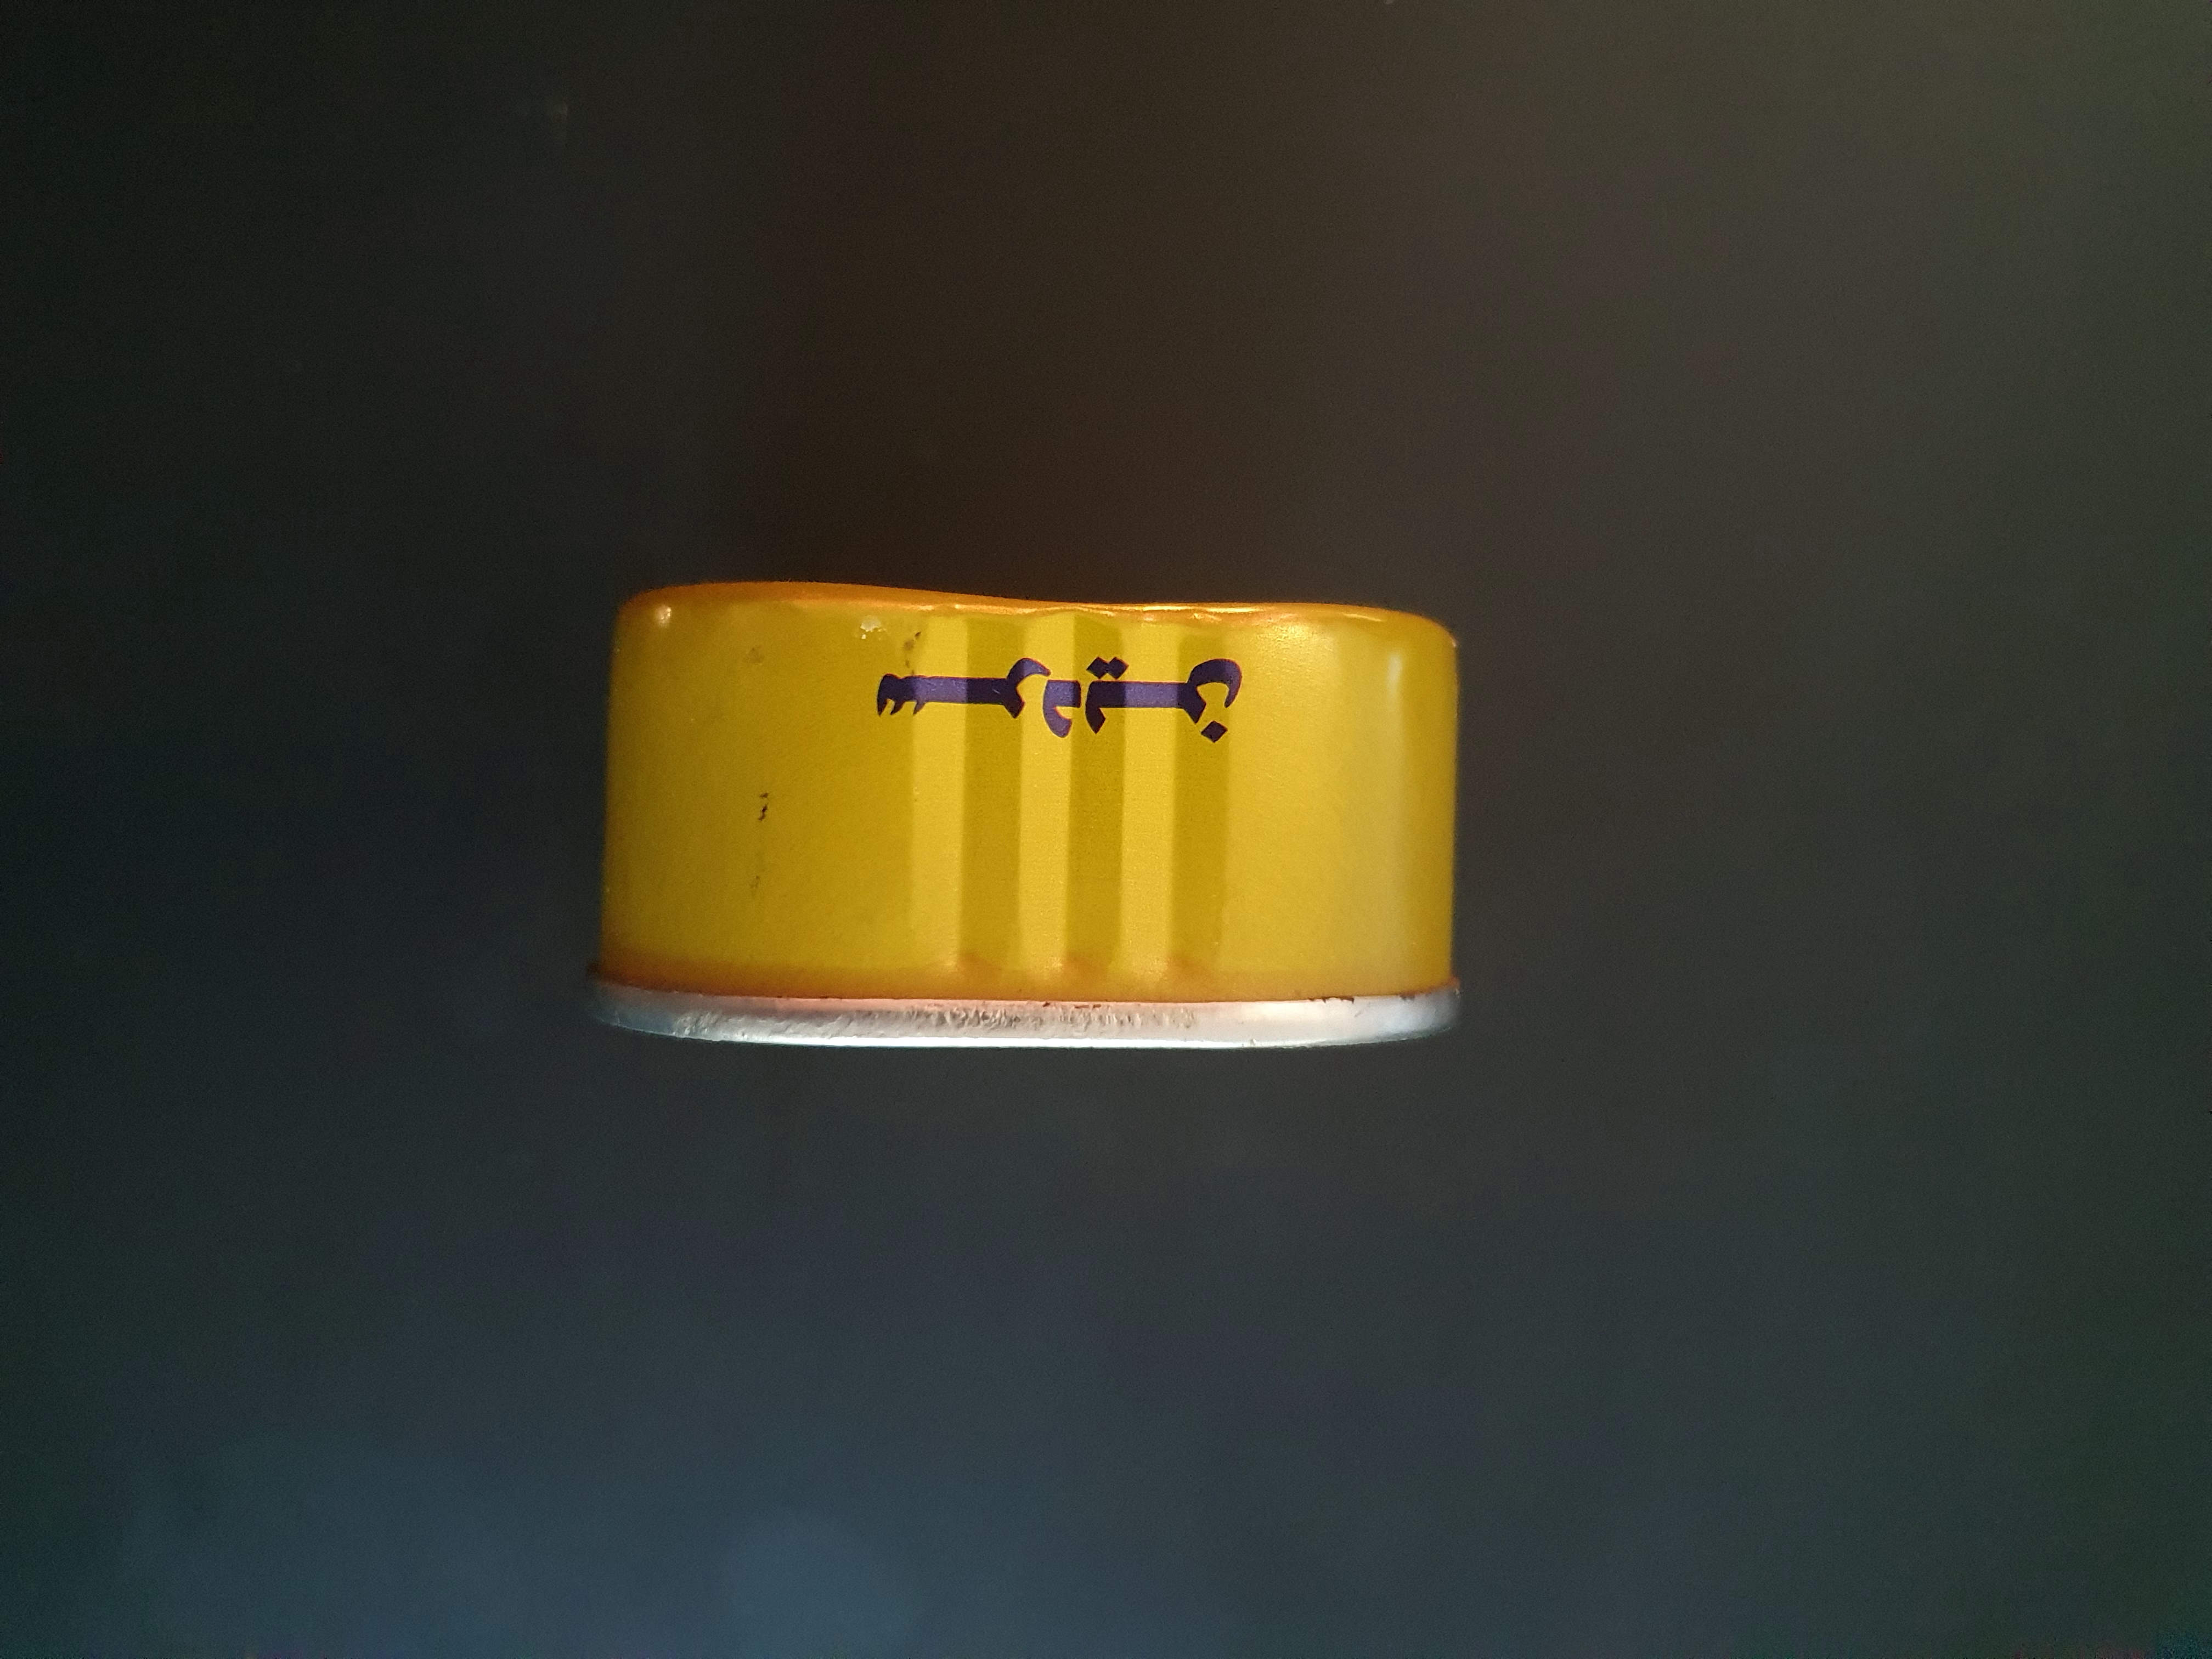metal: (538, 505, 1519, 1124)
